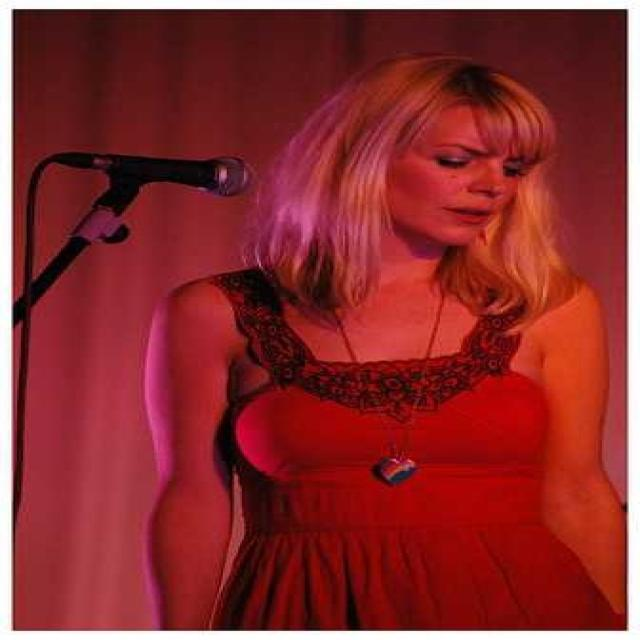microphone: (104, 139, 266, 205)
